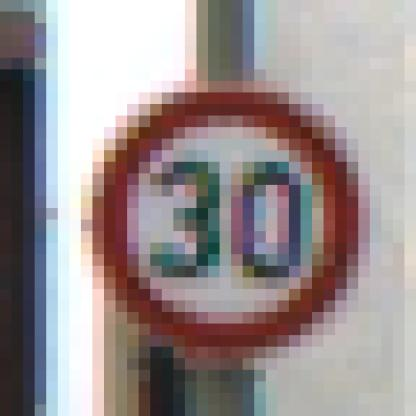Speed Limit 30: (98, 92, 356, 352)
